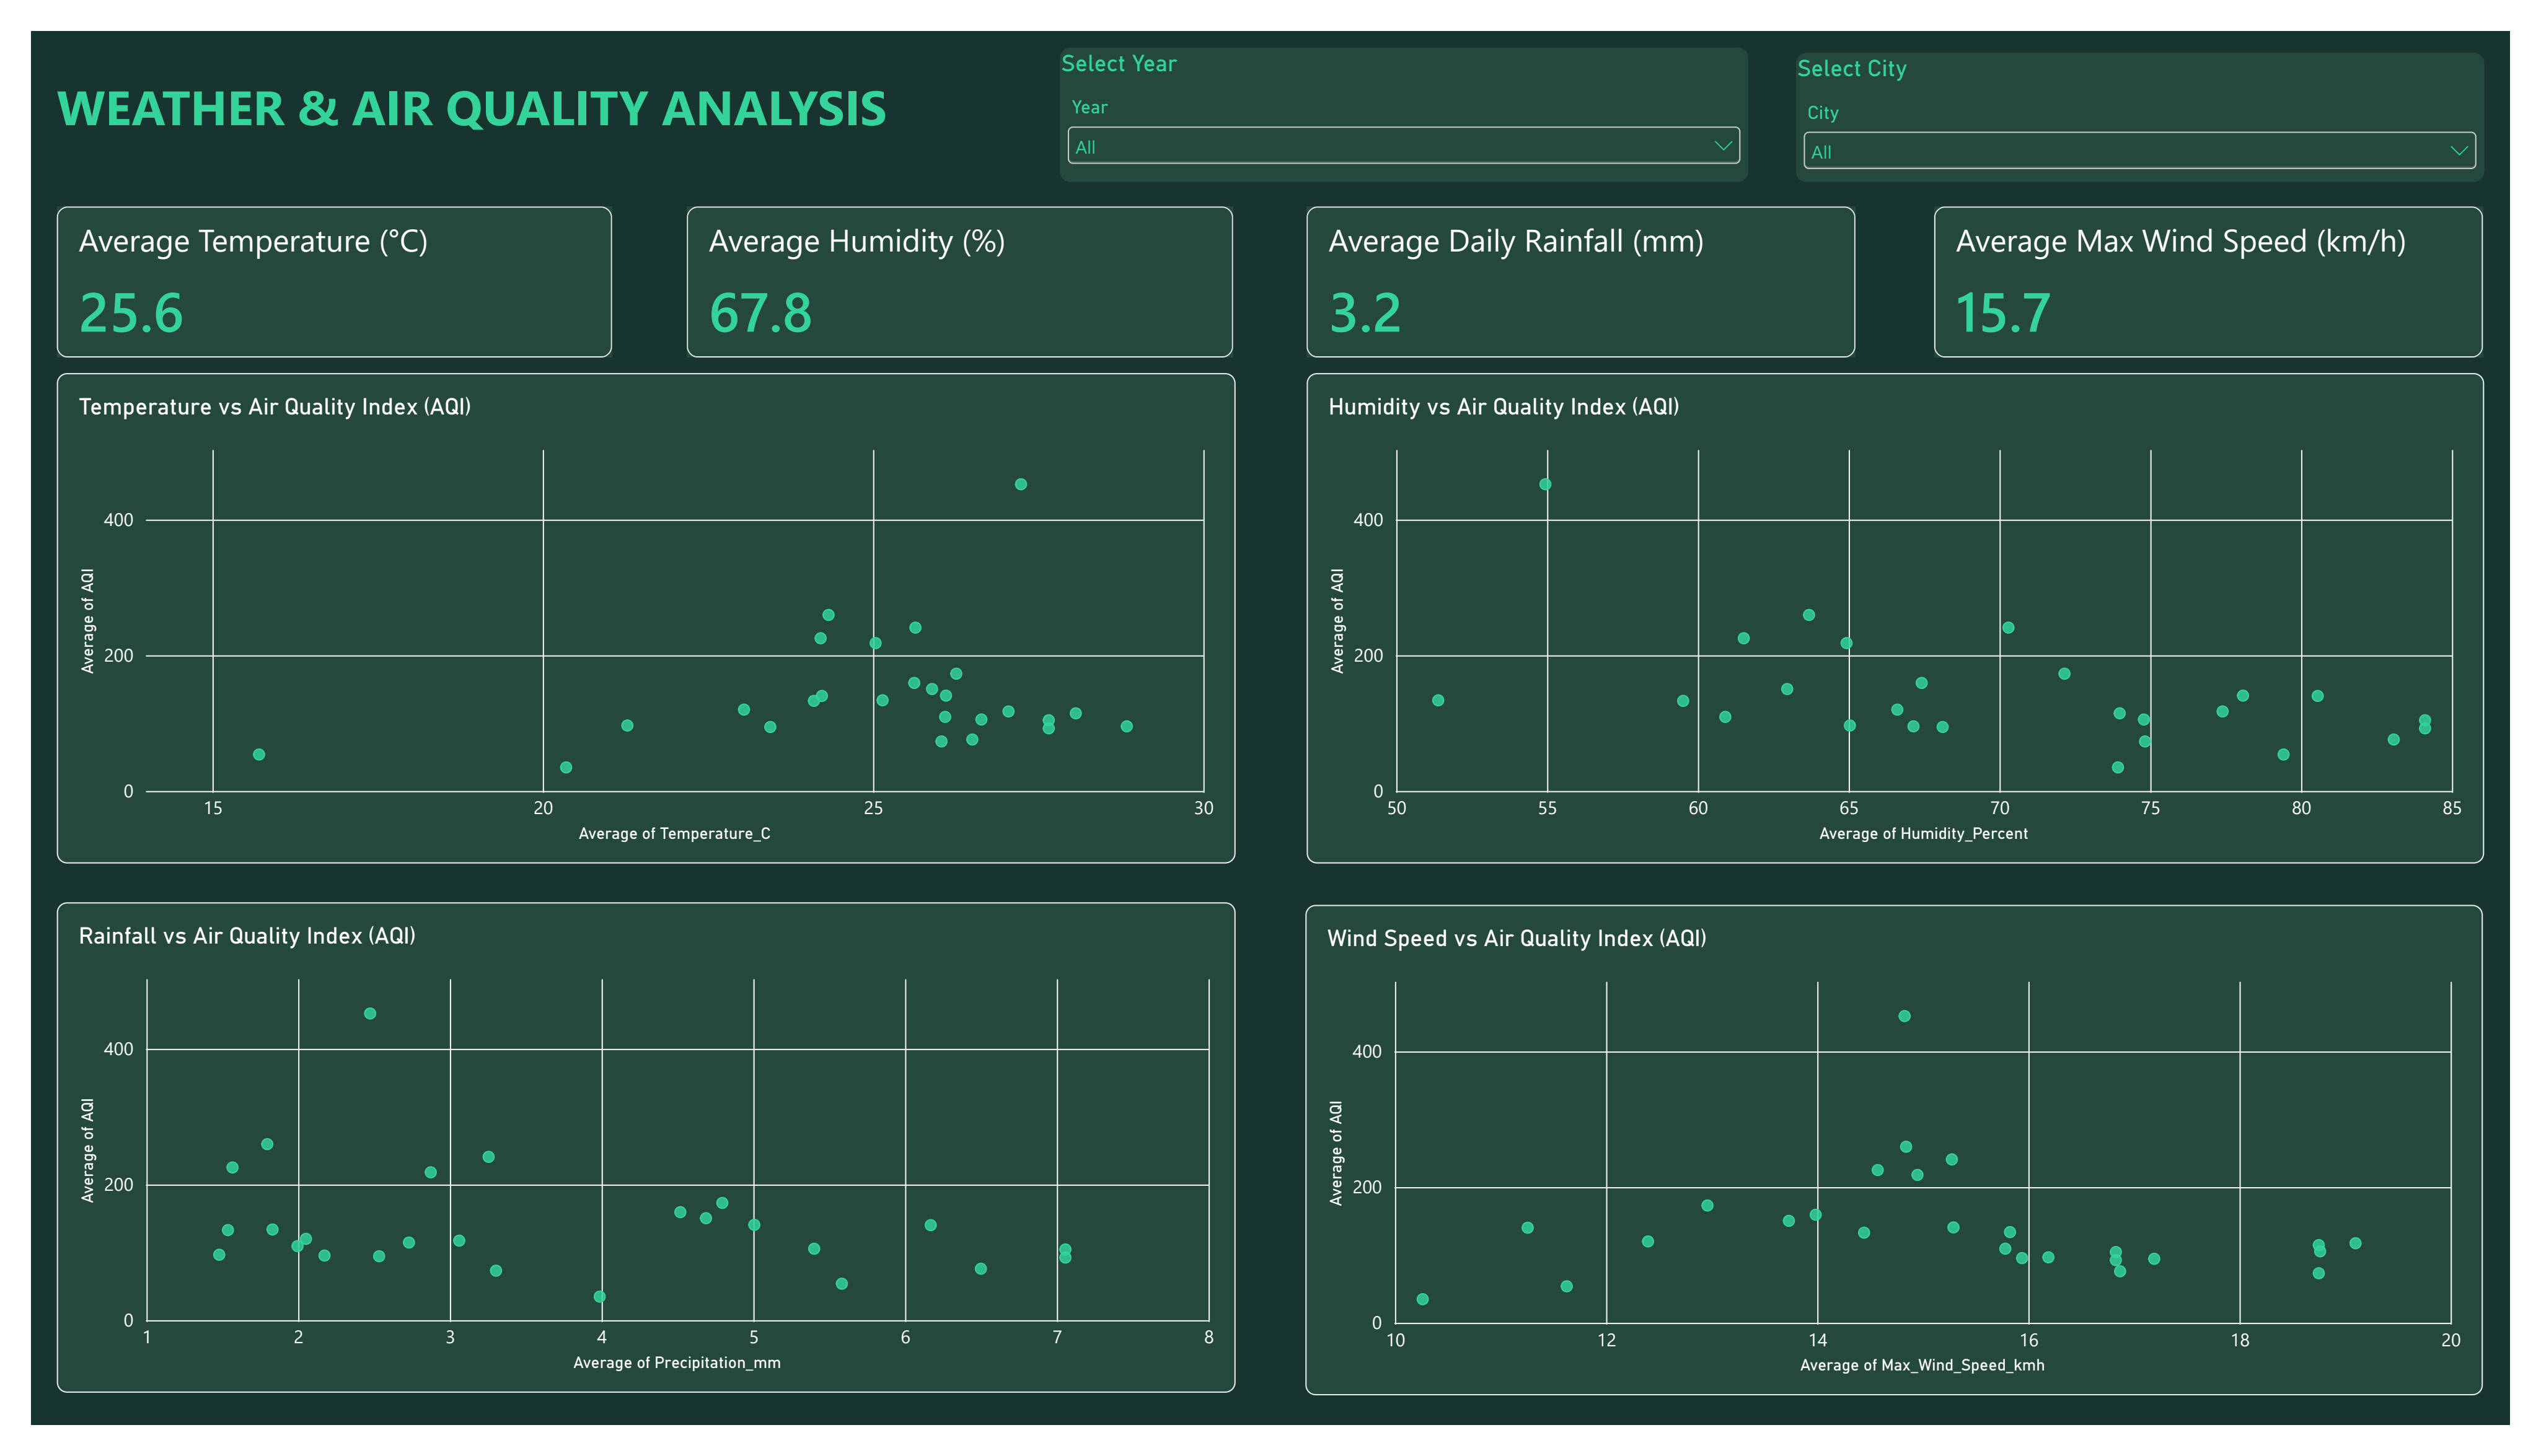

This screenshot's page, from the dashboard's own definition file:
{"tool":"powerbi","page":{"name":"Weather & Air Quality","canvas":[1920,1080],"ordinal":2},"visuals":[{"type":"textbox","box":[20,33.3,666.7,66.7],"z":0},{"type":"cardVisual","title":"Average Temperature (°C)","fields":{"Data":["Avg(gold_weather_air_quality.Temperature_C)"]},"box":[20,136,430,116.7],"z":1000},{"type":"cardVisual","title":"Average Temperature (°C)","fields":{"Data":["Avg(gold_weather_air_quality.Humidity_Percent)"]},"box":[508,136,423.3,116.7],"z":2000},{"type":"cardVisual","title":"Average Temperature (°C)","fields":{"Data":["Avg(gold_weather_air_quality.Precipitation_mm)"]},"box":[988,136,425,116.7],"z":3000},{"type":"cardVisual","title":"Average Temperature (°C)","fields":{"Data":["Avg(gold_weather_air_quality.Max_Wind_Speed_kmh)"]},"box":[1474,136,425,116.7],"z":4000},{"type":"scatterChart","title":"Temperature vs Air Quality Index (AQI)","fields":{"Category":["gold_weather_air_quality.City"],"X":["Avg(gold_weather_air_quality.Temperature_C)"],"Y":["Avg(gold_weather_air_quality.AQI)"]},"box":[20,265,912.5,380],"z":5000},{"type":"scatterChart","title":"Humidity vs Air Quality Index (AQI)","fields":{"Category":["gold_weather_air_quality.City"],"X":["Avg(gold_weather_air_quality.Humidity_Percent)"],"Y":["Avg(gold_weather_air_quality.AQI)"]},"box":[987.5,265,912.5,380],"z":6000},{"type":"scatterChart","title":"Rainfall vs Air Quality Index (AQI)","fields":{"Category":["gold_weather_air_quality.City"],"X":["Avg(gold_weather_air_quality.Precipitation_mm)"],"Y":["Avg(gold_weather_air_quality.AQI)"]},"box":[20,675,912.5,380],"z":7000},{"type":"scatterChart","title":"Wind Speed vs Air Quality Index (AQI)","fields":{"Category":["gold_weather_air_quality.City"],"X":["Avg(gold_weather_air_quality.Max_Wind_Speed_kmh)"],"Y":["Avg(gold_weather_air_quality.AQI)"]},"box":[986.7,676.7,912.5,380],"z":8000},{"type":"slicer","title":"Select City","fields":{"Values":["gold_weather_air_quality.City"]},"box":[1366.7,16.7,533.3,100],"z":9000},{"type":"slicer","title":"Select Year","fields":{"Values":["DimDate.Year"]},"box":[796.7,13.3,533.3,103.3],"z":10000}]}

Visuals, with their boxes on the page's 1920x1080 design canvas (x1, y1, x2, y2). These are canvas units, not pixel positions in the 2541x1456 screenshot, which may show the page scaled, cropped or inside an application window:
textbox: x1=20, y1=33, x2=687, y2=100
"Average Temperature (°C)" cardVisual: x1=20, y1=136, x2=450, y2=253
"Average Temperature (°C)" cardVisual: x1=508, y1=136, x2=931, y2=253
"Average Temperature (°C)" cardVisual: x1=988, y1=136, x2=1413, y2=253
"Average Temperature (°C)" cardVisual: x1=1474, y1=136, x2=1899, y2=253
"Temperature vs Air Quality Index (AQI)" scatterChart: x1=20, y1=265, x2=932, y2=645
"Humidity vs Air Quality Index (AQI)" scatterChart: x1=988, y1=265, x2=1900, y2=645
"Rainfall vs Air Quality Index (AQI)" scatterChart: x1=20, y1=675, x2=932, y2=1055
"Wind Speed vs Air Quality Index (AQI)" scatterChart: x1=987, y1=677, x2=1899, y2=1057
"Select City" slicer: x1=1367, y1=17, x2=1900, y2=117
"Select Year" slicer: x1=797, y1=13, x2=1330, y2=117
